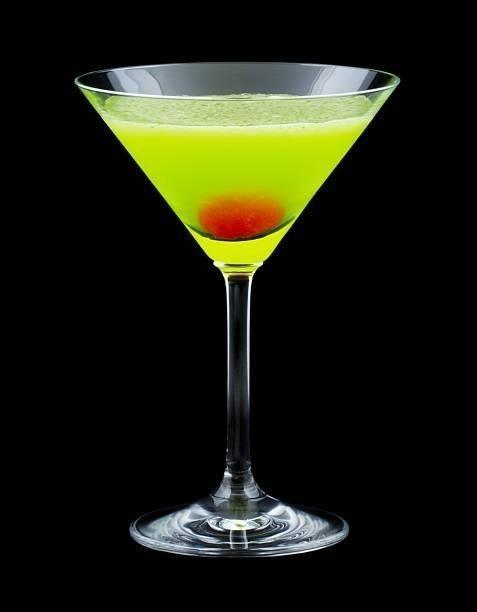glass-wine: (72, 57, 402, 560)
